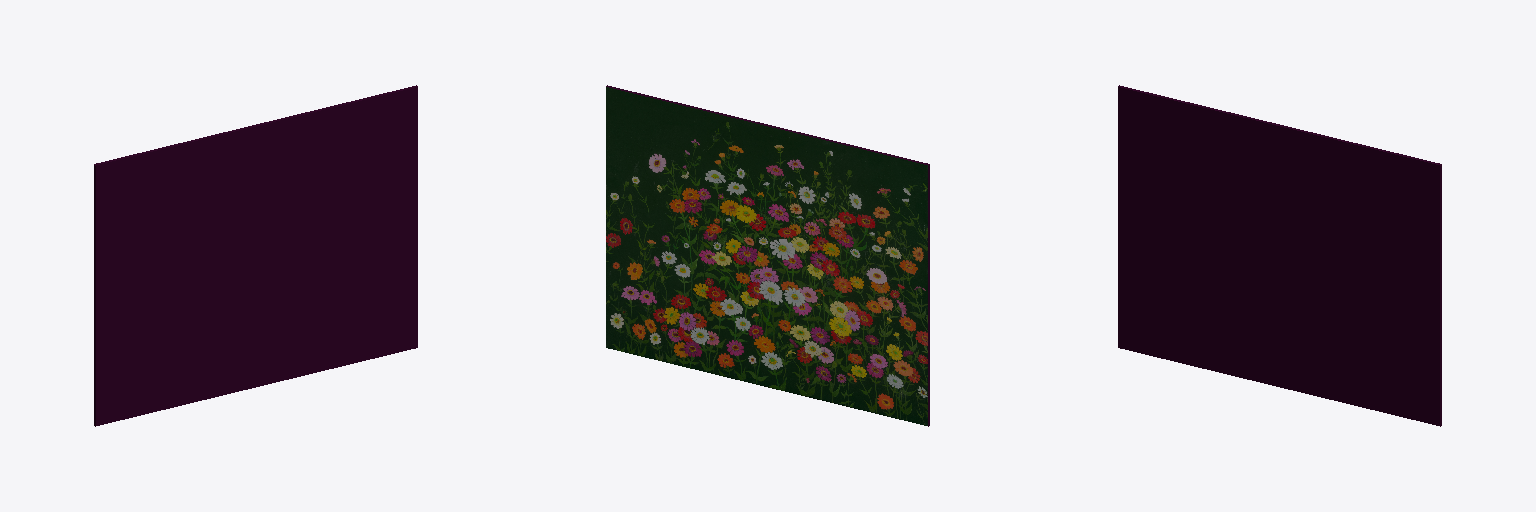
3 renders of one model, left to right at view 1: azimuth 30°, elevation 25°; view 2: azimuth 150°, elevation 25°; view 3: azimuth 330°, elevation 25°, orthographic.
Parts seen in each view (by area): view 1: Mesh1 Model; view 2: Mesh1 Model; view 3: Mesh1 Model.
Part boxes in pixels (x1,y1,x2,y2): Mesh1 Model: (94,85,417,426); Mesh1 Model: (606,85,929,426); Mesh1 Model: (1118,85,1441,426).
Bounding box in the file's own units: 1.98 × 1.53 × 0.02.
Materials: 2 (1 with a texture image).